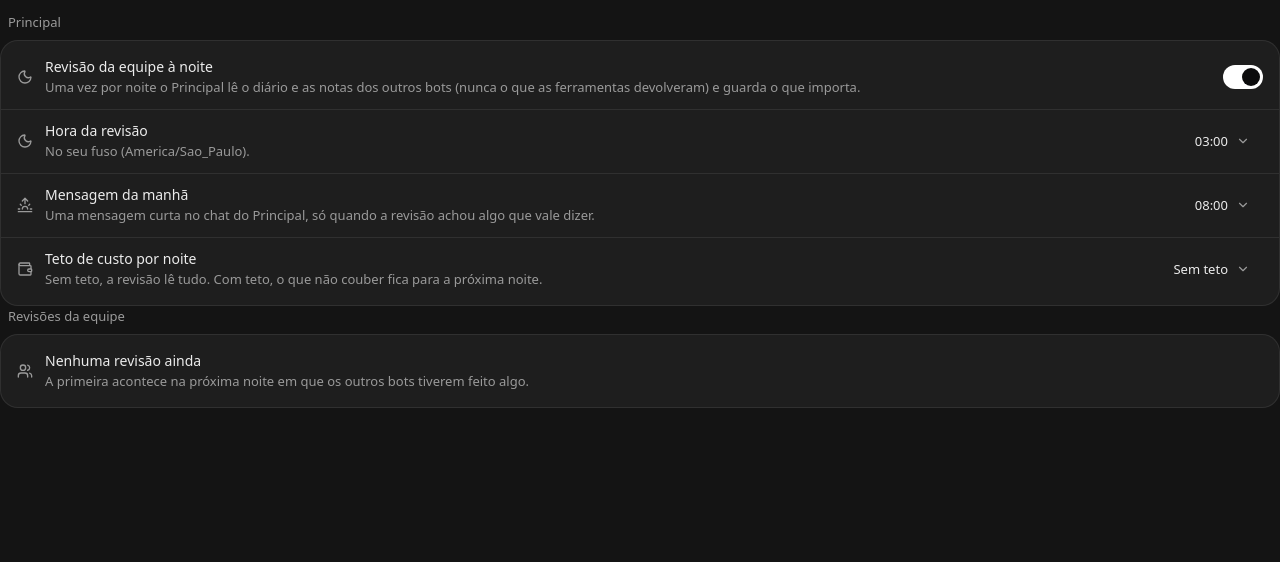
Configurações > Memória > Principal › goes back and shows the server's words when it refuses
Click the dropdown with test id "supervisor-cost-cap" at (1212, 269), box [1160, 253, 1263, 285]
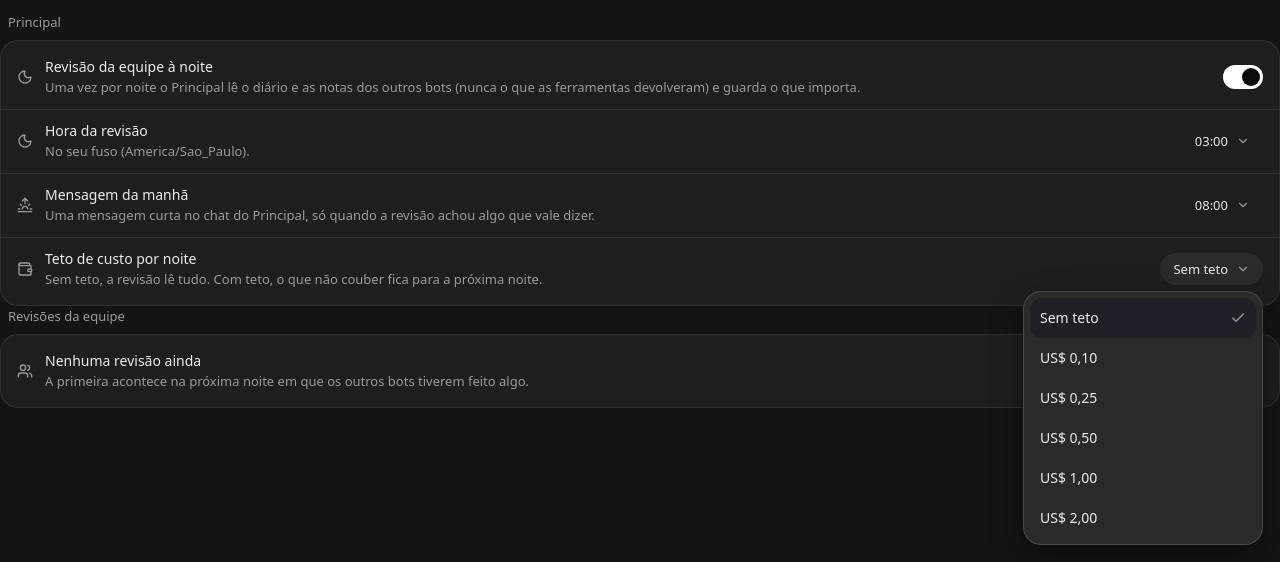
Click the option "US$ 1,00" at (1069, 478), box [1040, 468, 1097, 487]
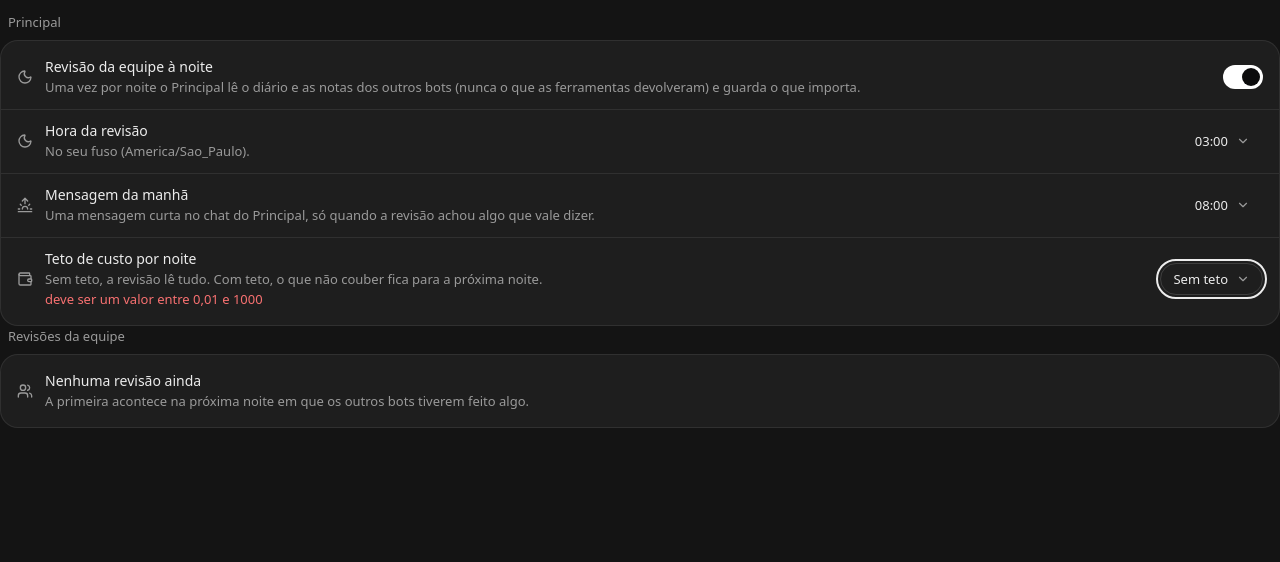
Expected: the dropdown with test id "supervisor-cost-cap" reads "Sem teto", [1160, 263, 1263, 295]
Result: the message with test id "supervisor-error-cap" shows "entre 0,01" at [45, 290, 263, 308]
